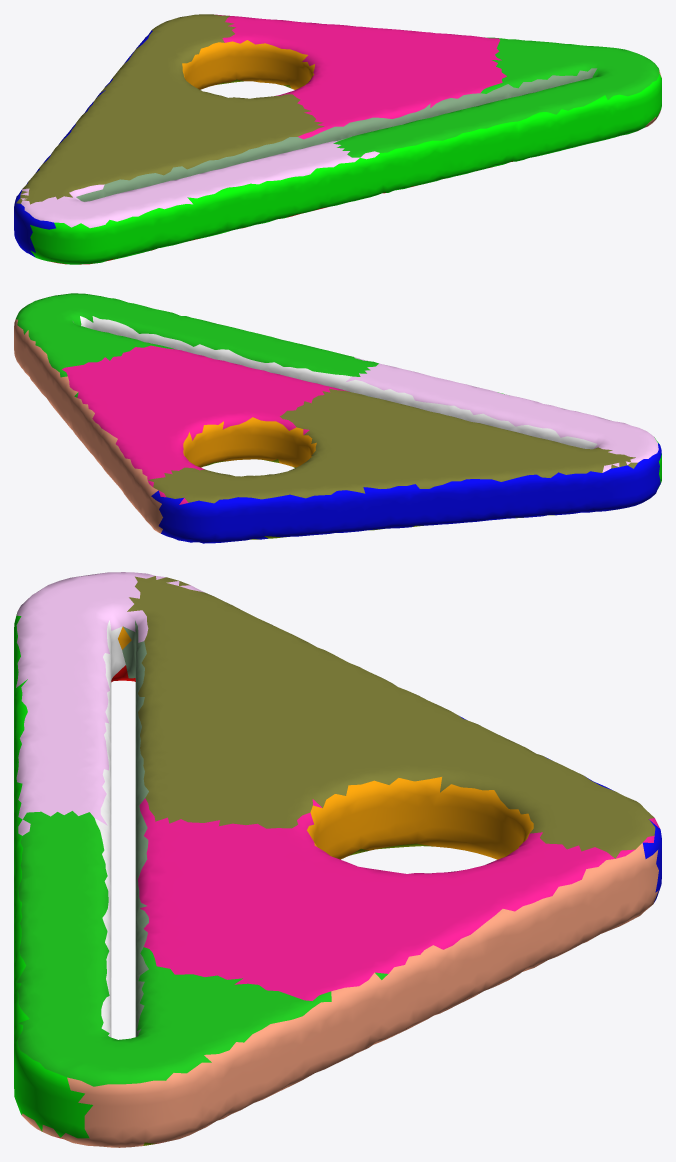
The model's file is model_82_segmented_new.obj.
3 renders of one model, top to bottom at view 1: azimuth 30°, elevation 25°; view 2: azimuth 150°, elevation 25°; view 3: azimuth 270°, elevation 25°, orthographic. The views are drawn at different scales.
Bounding box in the file's own units: 74.99 × 5.03 × 40.
